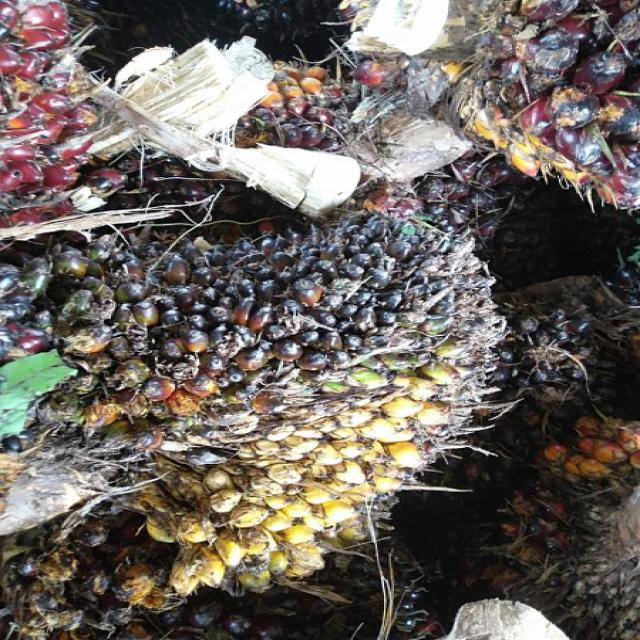fraksi 00: (58, 205, 512, 588)
